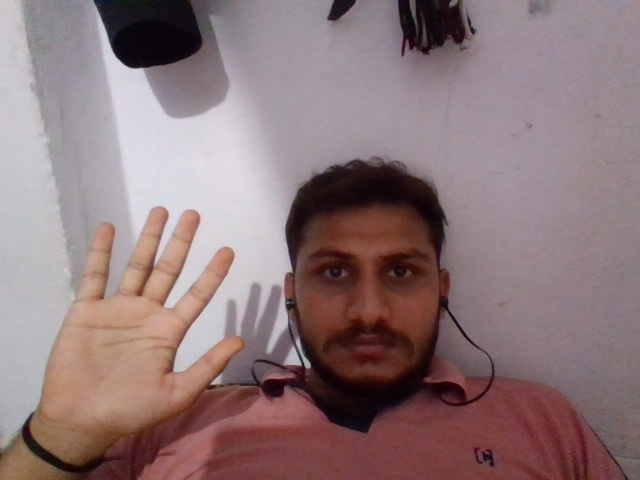Hello: (27, 193, 261, 442)
